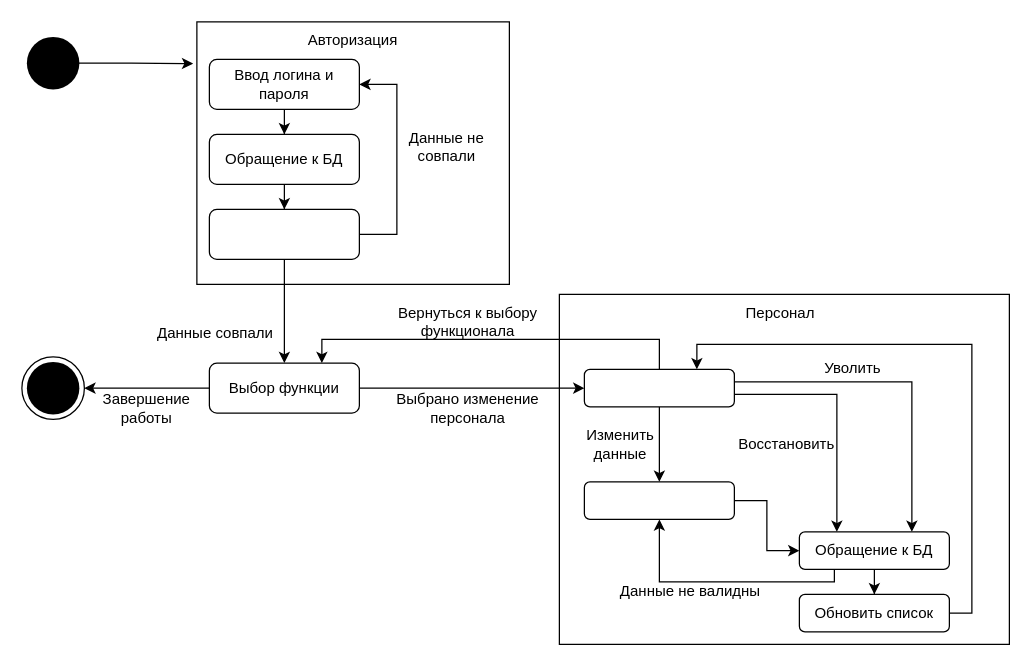
Some shapes in this 1031 by 666 pixel diagram are drawn without their labels. Each missing label, with the centre of its shape:
Ввод данных: (658,500)
Выбрать из списка: (658,387)
Проверка данных: (283,233)
